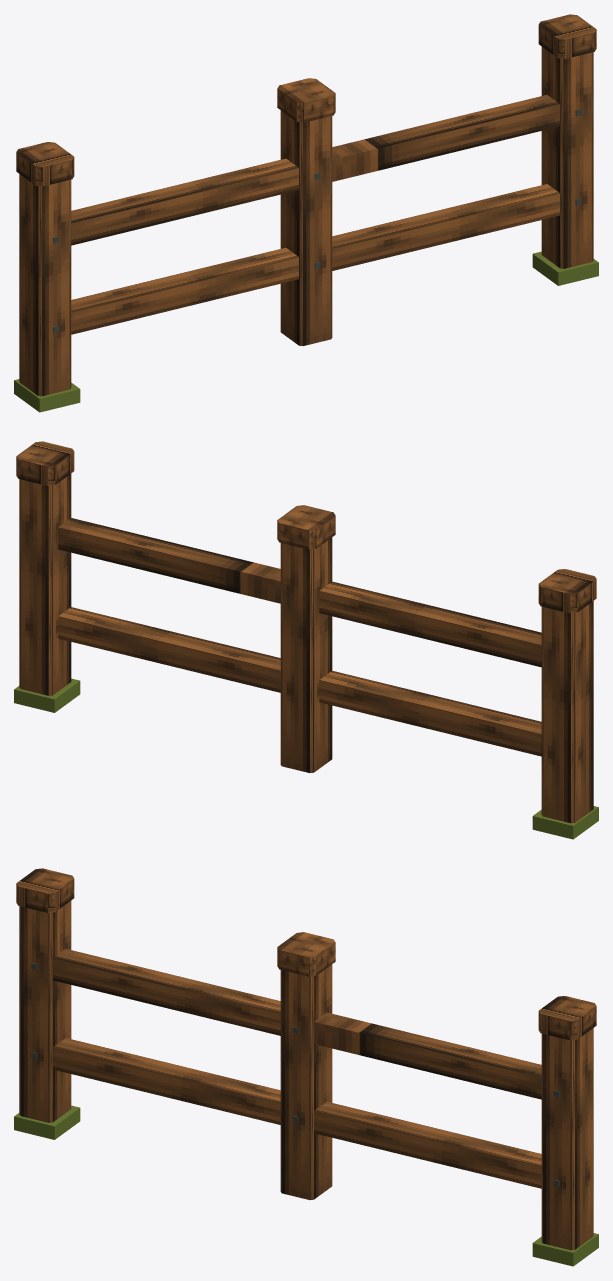
The model's file is SM_HP_Fence_LOD0.fbx.
3 views of the same model, one above another, from view 1: azimuth 30°, elevation 25°; view 2: azimuth 150°, elevation 25°; view 3: azimuth 330°, elevation 25° (orthographic).
Parts seen in each view (by area): view 1: SM_HP_Fence_LOD0; view 2: SM_HP_Fence_LOD0; view 3: SM_HP_Fence_LOD0.
Boxes of the visible parts, x1,y1,x2,y2 form: SM_HP_Fence_LOD0: [14, 14, 598, 412]; SM_HP_Fence_LOD0: [14, 441, 598, 839]; SM_HP_Fence_LOD0: [14, 868, 598, 1266].
Size of the model in its own units: 3.03 by 0.24 by 1.26.
Materials: 3 (1 with a texture image).
